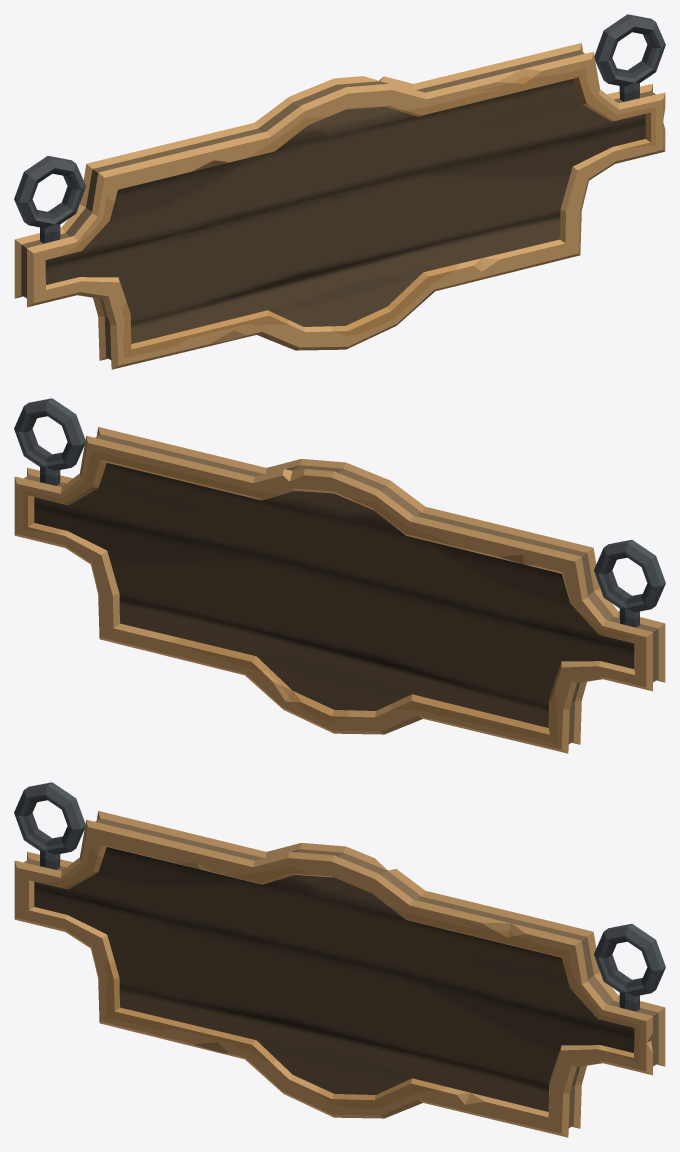
File: SM_Prop_Sign_Base__01.fbx
The picture shows the model from 3 angles, top to bottom: view 1: azimuth 30°, elevation 25°; view 2: azimuth 150°, elevation 25°; view 3: azimuth 330°, elevation 25°; orthographic projection.
Visible parts, largest first — view 1: SM_Prop_Sign_Base__01; view 2: SM_Prop_Sign_Base__01; view 3: SM_Prop_Sign_Base__01.
Part boxes in pixels (x1=…): SM_Prop_Sign_Base__01: x1=14, y1=14, x2=665, y2=369; SM_Prop_Sign_Base__01: x1=14, y1=398, x2=665, y2=753; SM_Prop_Sign_Base__01: x1=14, y1=782, x2=665, y2=1137.
Size of the model in its own units: 193 by 74.74 by 8.62.
